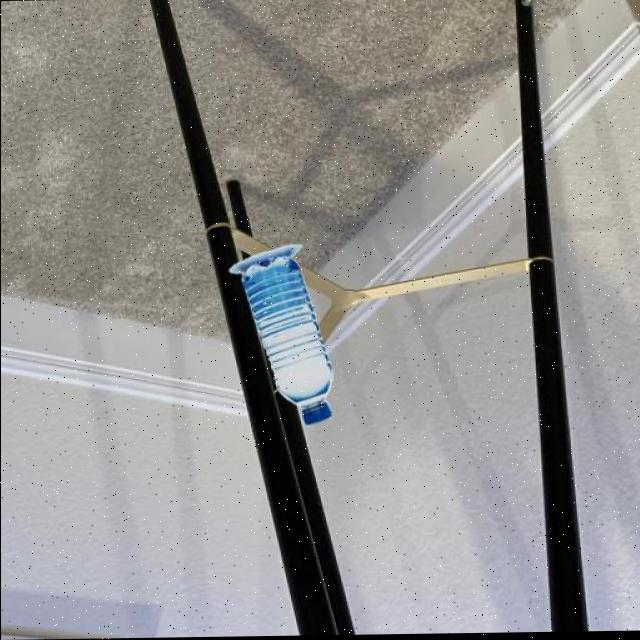bottle: (235, 246, 335, 428)
